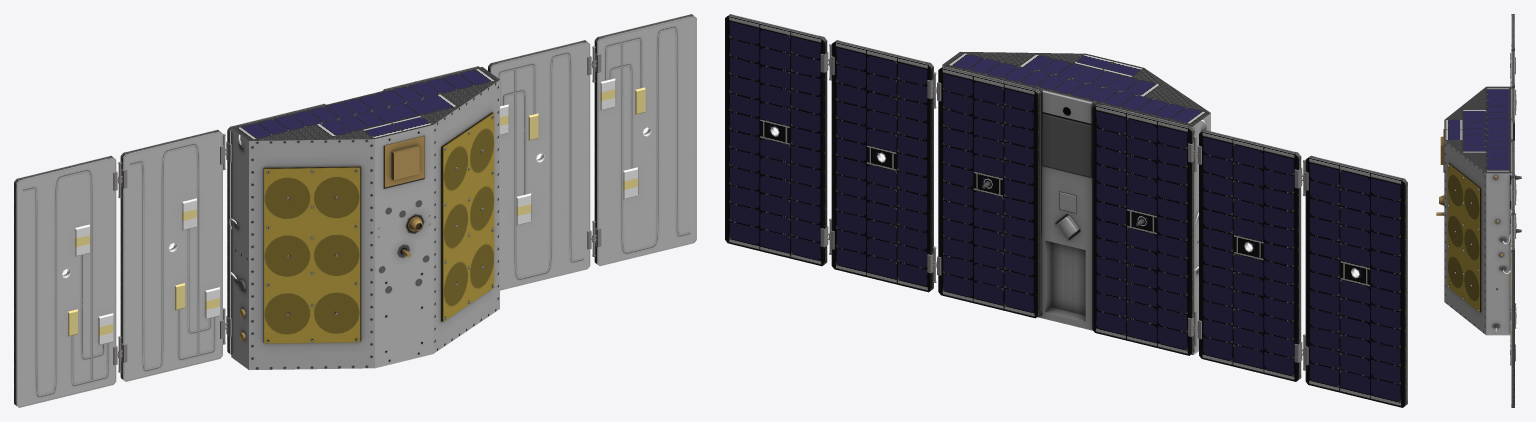
The model's file is CYGNSS.glb.
3 views of the same model, side by side, from view 1: azimuth 30°, elevation 25°; view 2: azimuth 150°, elevation 25°; view 3: azimuth 270°, elevation 25° (orthographic). The views are drawn at different scales.
Visible parts, largest first — view 1: BUS, array_right3, array_left2, array_right1, array_left1, array_left2_instruments, array_right2_instruments, array_right1_instruments, array_left1_instruments; view 2: BUS, array_right3, array_left2, array_left1, array_right1; view 3: BUS, array_left2, array_left1, array_right1, array_right3, array_left2_instruments, hinges_left2_left, hinges_left1_left.
Boxes of the visible parts, box(x1,y1,x2,y2) form: BUS: box(227, 66, 499, 370); array_right3: box(14, 155, 116, 407); array_left2: box(594, 14, 696, 266); array_right1: box(120, 129, 222, 381); array_left1: box(488, 40, 590, 290); array_left2_instruments: box(600, 78, 645, 199); array_right2_instruments: box(68, 224, 113, 345); array_right1_instruments: box(175, 198, 219, 319); array_left1_instruments: box(500, 104, 538, 225); BUS: box(938, 51, 1210, 355); array_right3: box(1305, 155, 1407, 407); array_left2: box(725, 14, 827, 266); array_left1: box(831, 40, 933, 292); array_right1: box(1199, 129, 1301, 381); BUS: box(1436, 86, 1521, 335); array_left2: box(1511, 214, 1514, 407); array_left1: box(1511, 177, 1514, 214); array_right1: box(1511, 50, 1514, 87); array_right3: box(1511, 14, 1514, 50); array_left2_instruments: box(1510, 245, 1511, 344); hinges_left2_left: box(1510, 216, 1515, 365); hinges_left1_left: box(1510, 187, 1516, 324).
Bounding box in the file's own units: 1.59 × 0.5121 × 0.2442.
5 materials, 1 textured.
